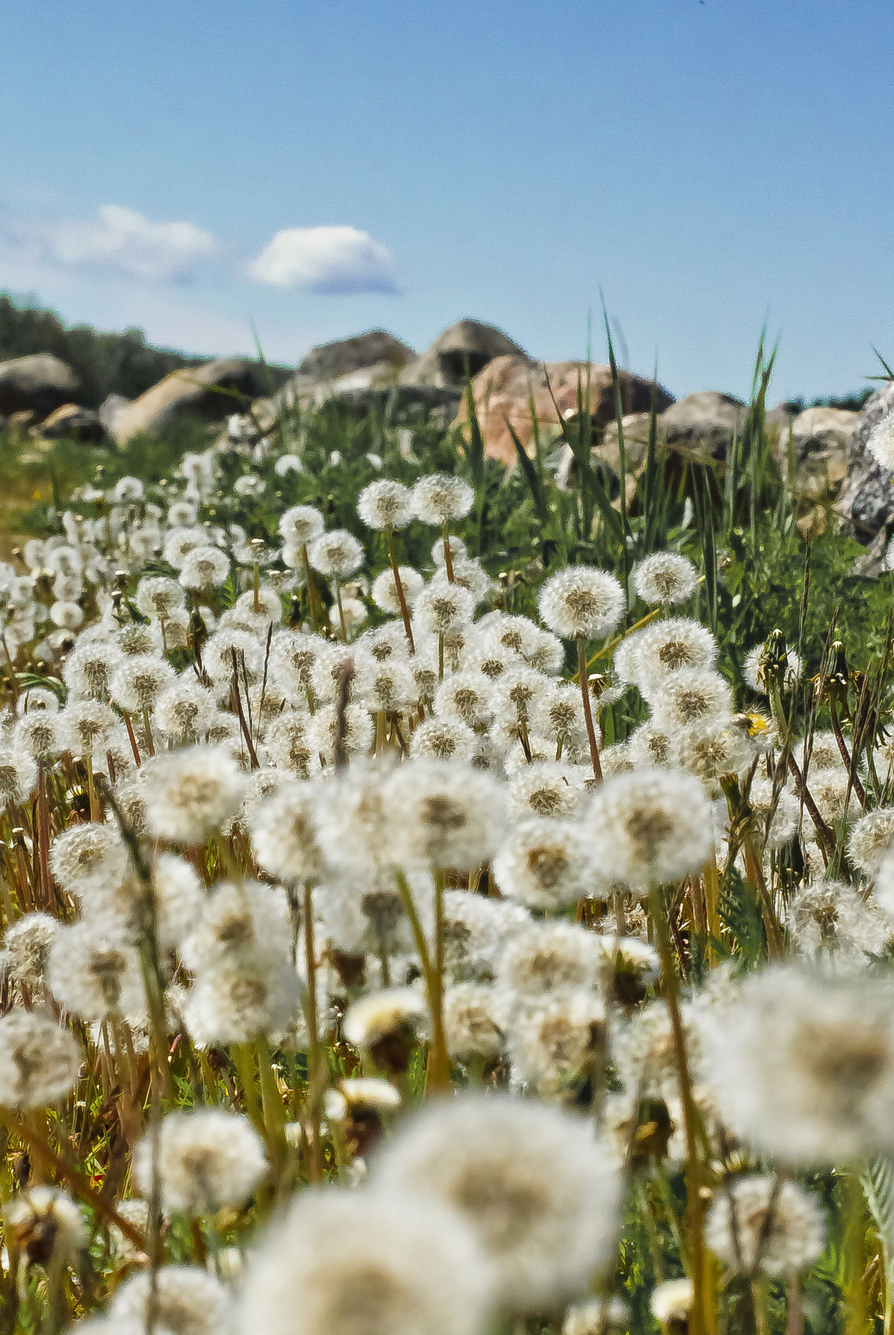begonvil: (686, 1156, 834, 1286), (587, 765, 718, 911), (50, 914, 177, 1043), (491, 800, 603, 919), (785, 871, 888, 982), (38, 819, 143, 908), (534, 561, 625, 651), (635, 607, 714, 706), (503, 752, 597, 832), (644, 665, 737, 744), (346, 654, 430, 731), (270, 625, 343, 709), (108, 650, 183, 726), (193, 623, 270, 696), (11, 710, 84, 780), (406, 715, 480, 781), (633, 546, 708, 610), (408, 470, 479, 533), (435, 670, 503, 735), (353, 472, 422, 534), (59, 640, 124, 705), (417, 579, 478, 648), (478, 609, 539, 677), (177, 543, 243, 602), (160, 681, 216, 750), (365, 562, 434, 618), (308, 531, 368, 589), (129, 577, 190, 624), (283, 507, 329, 551)
